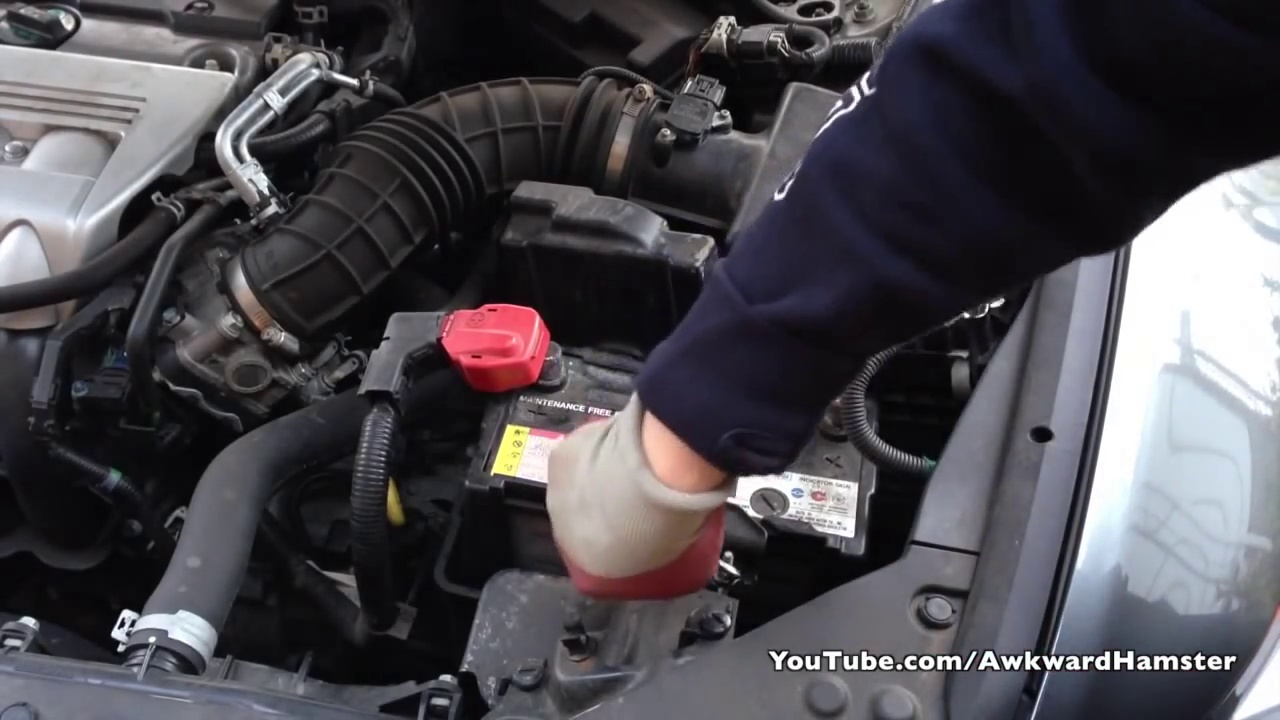battery: (465, 323, 878, 553)
pos_connected: (410, 296, 586, 408)
